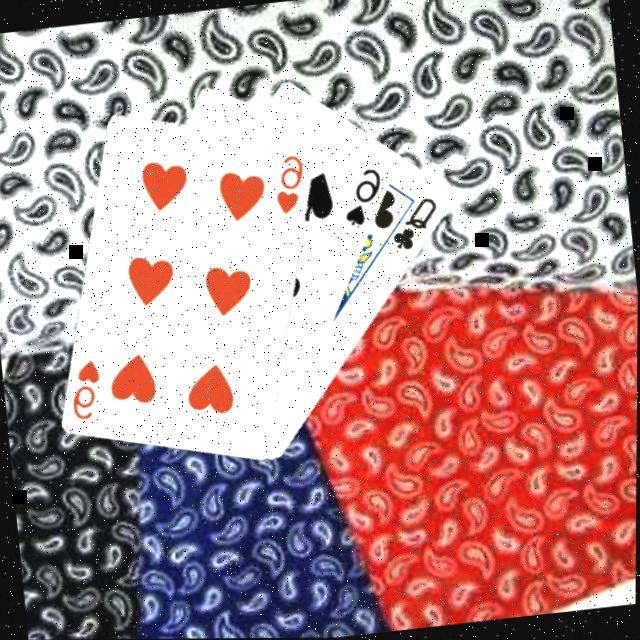6H: (62, 356, 106, 426), (268, 152, 310, 218)
6S: (336, 164, 388, 230)
QC: (384, 193, 444, 256)
